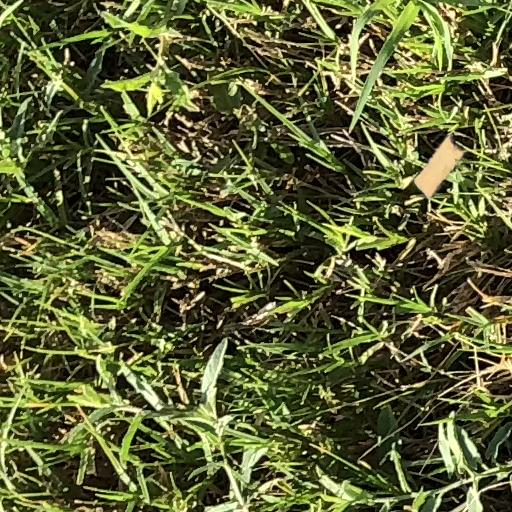smoke: (415, 136, 463, 197)
